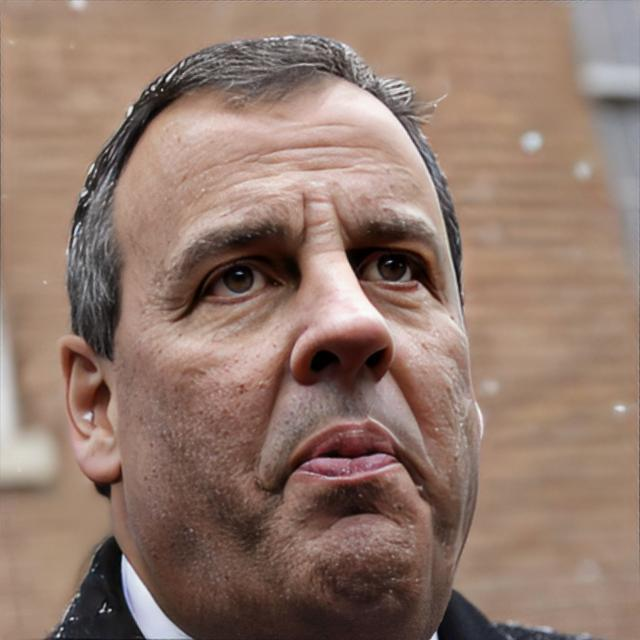anger: (113, 90, 470, 617)
